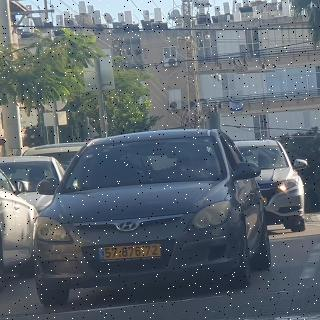LicensePlate: (103, 243, 161, 260)
